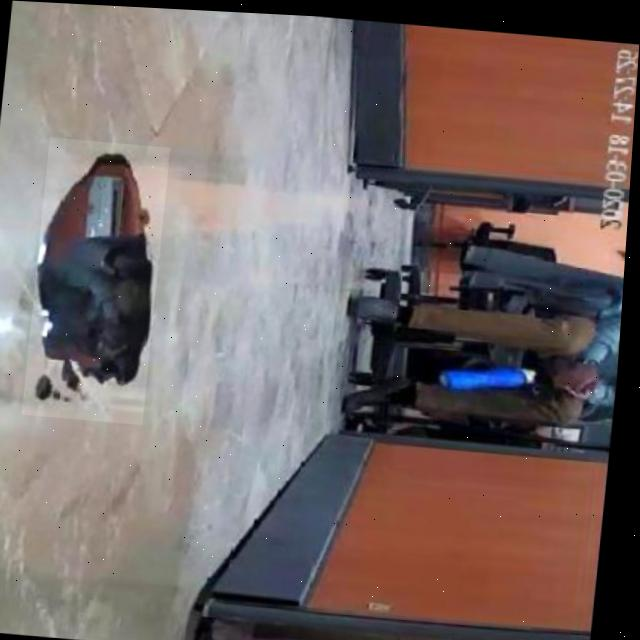spillage: (30, 141, 162, 415)
